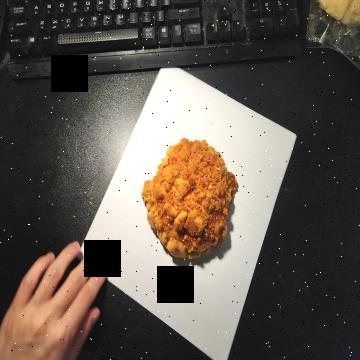soboru_bread: (142, 139, 239, 260)
